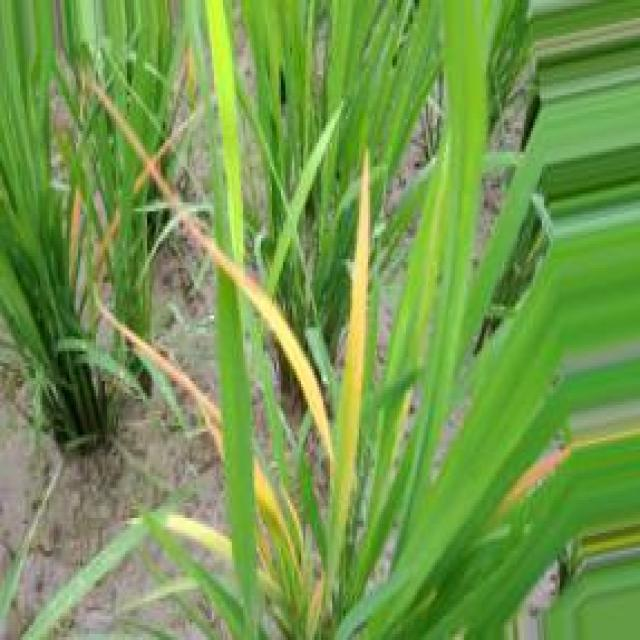Rice Tungro: (178, 207, 333, 465), (100, 305, 223, 456), (330, 150, 369, 573), (500, 447, 571, 511), (164, 512, 231, 561)
